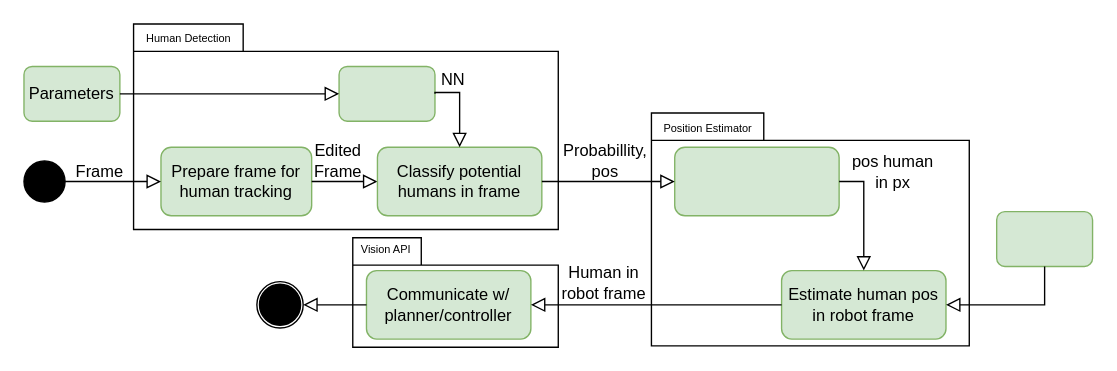
This 1117x371 diagram has some shape labels left out. The shapes that lost their labels are listed below. From the top down, each one's centre as x and y in pixels, then its label:
point (386, 93): Method
point (756, 181): Extract frames likely containing humans
point (1044, 238): Transform
